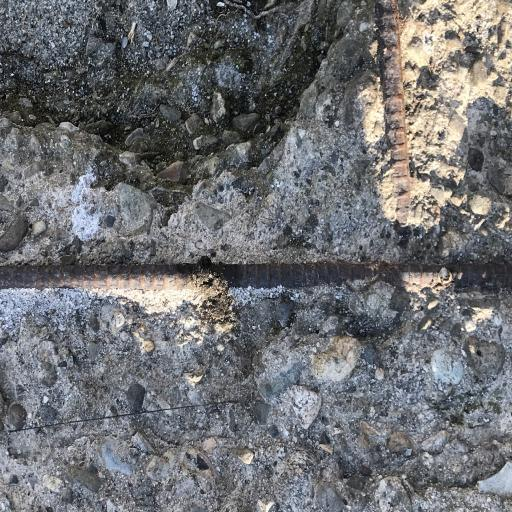exposed_rebar: (376, 0, 411, 226), (376, 0, 410, 224), (209, 261, 440, 288), (0, 265, 200, 288), (450, 263, 512, 290)
